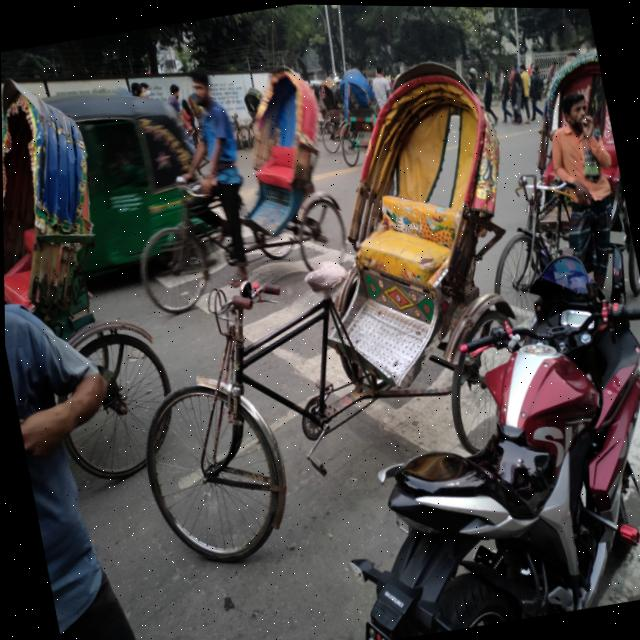rikshaw: (129, 62, 591, 576), (102, 44, 369, 353), (1, 81, 166, 518), (519, 12, 640, 317)
